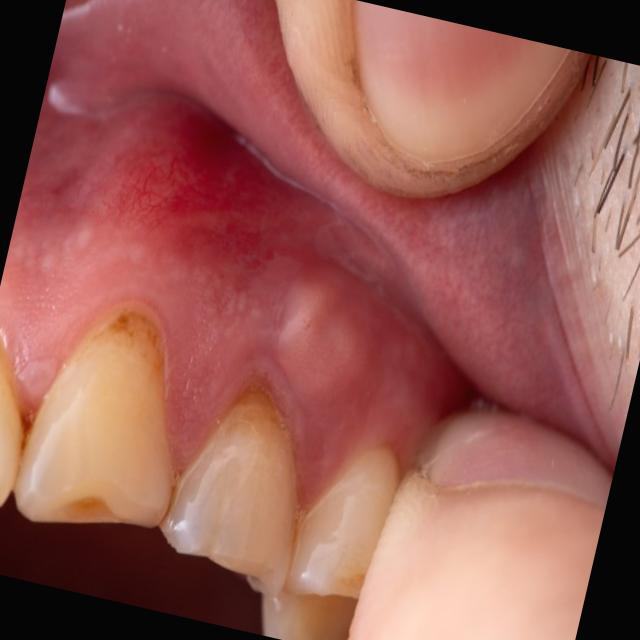abscess: (228, 265, 415, 440)
